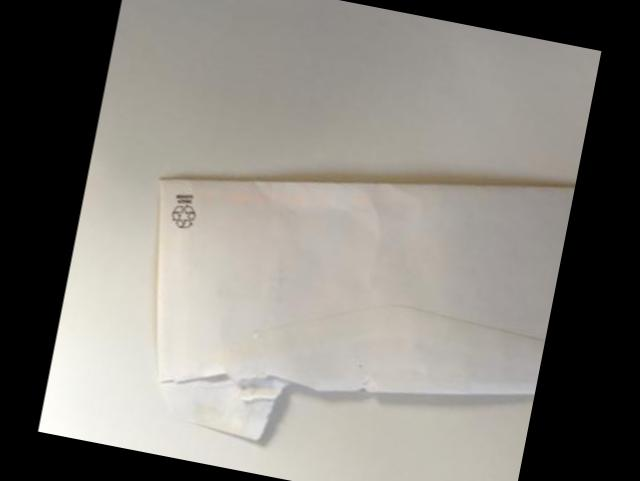cardboard paper: (159, 180, 575, 443)
